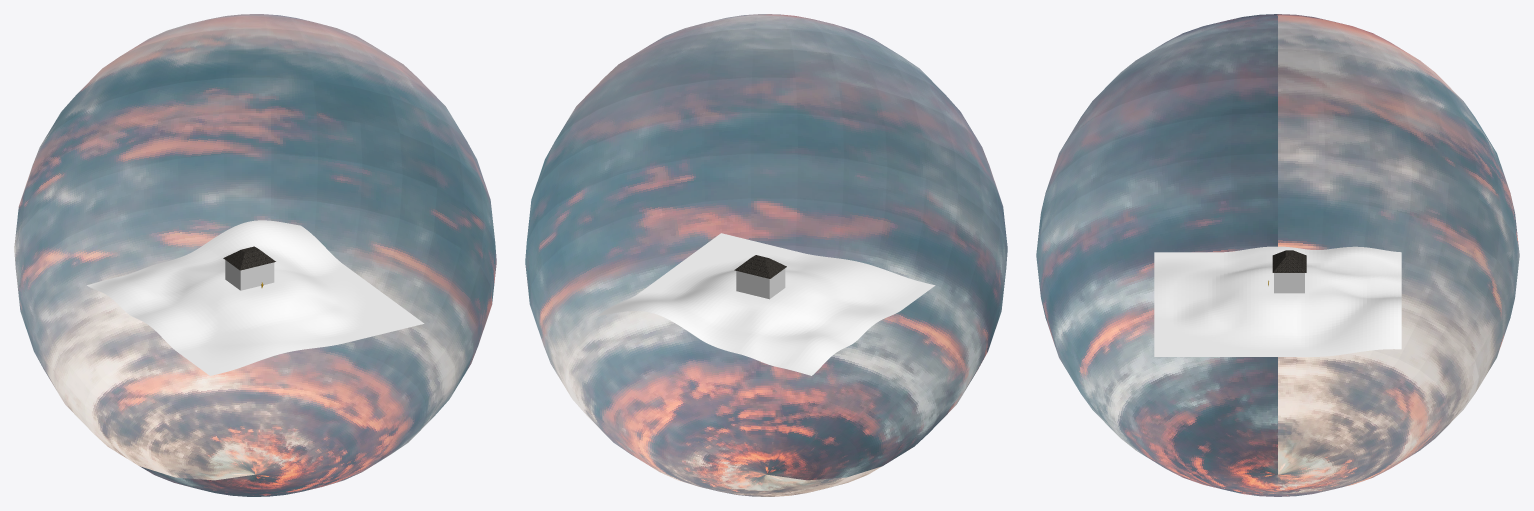
The model's file is house_on_hill.glb.
3 renders of one model, left to right at view 1: azimuth 30°, elevation 25°; view 2: azimuth 150°, elevation 25°; view 3: azimuth 270°, elevation 25°, orthographic.
Visible parts, largest first — view 1: Skybox, House, Roof; view 2: Skybox, House, Roof; view 3: Skybox, House, Roof.
Boxes of the visible parts, x1,y1,x2,y2 form: Skybox: (14, 14, 496, 496); House: (87, 220, 424, 375); Roof: (223, 246, 275, 270); Skybox: (525, 14, 1007, 496); House: (598, 233, 935, 375); Roof: (734, 255, 786, 278); Skybox: (1036, 14, 1519, 496); House: (1154, 246, 1401, 356); Roof: (1272, 250, 1306, 272).
Bounding box in the file's own units: 125 × 125 × 125.
Materials: 7 (2 with a texture image).
